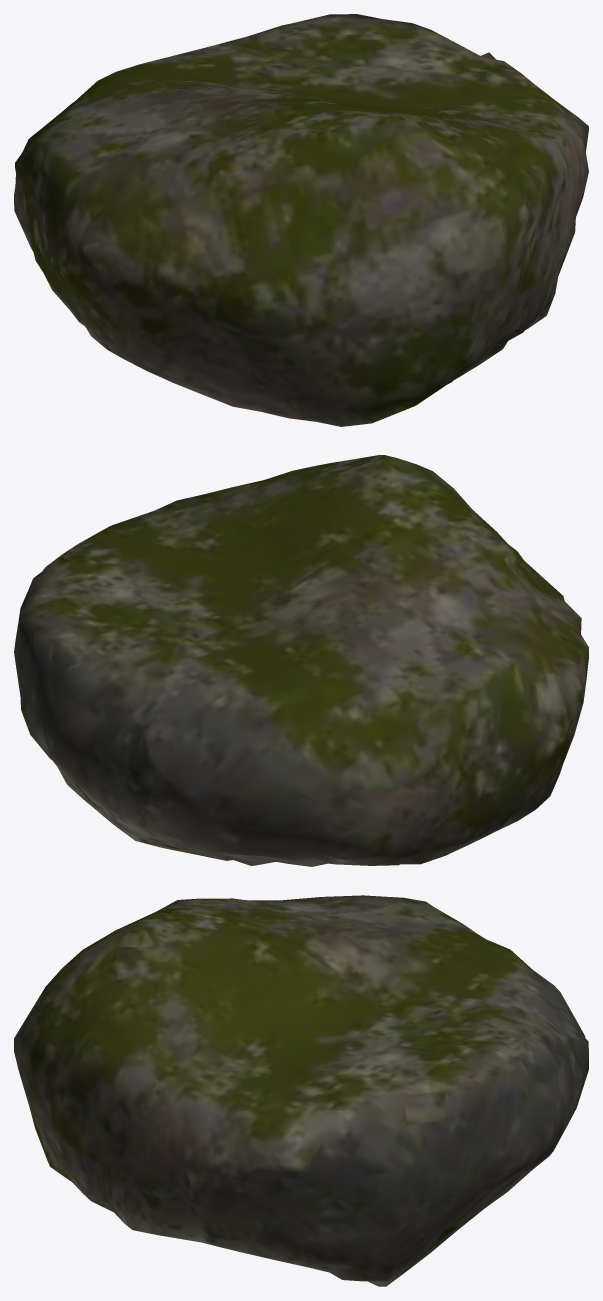
The model's file is rock2-DUwkVlmV.glb.
The picture shows the model from 3 angles, top to bottom: view 1: azimuth 30°, elevation 25°; view 2: azimuth 150°, elevation 25°; view 3: azimuth 270°, elevation 25°; orthographic projection. The views are drawn at different scales.
Parts seen in each view (by area): view 1: A_Set.001; view 2: A_Set.001; view 3: A_Set.001.
Boxes of the visible parts, x1,y1,x2,y2 form: A_Set.001: (14,14,588,426); A_Set.001: (14,455,588,866); A_Set.001: (14,895,588,1286).
Bounding box in the file's own units: 5.6 × 3.23 × 5.59.
1 material, 1 textured.
